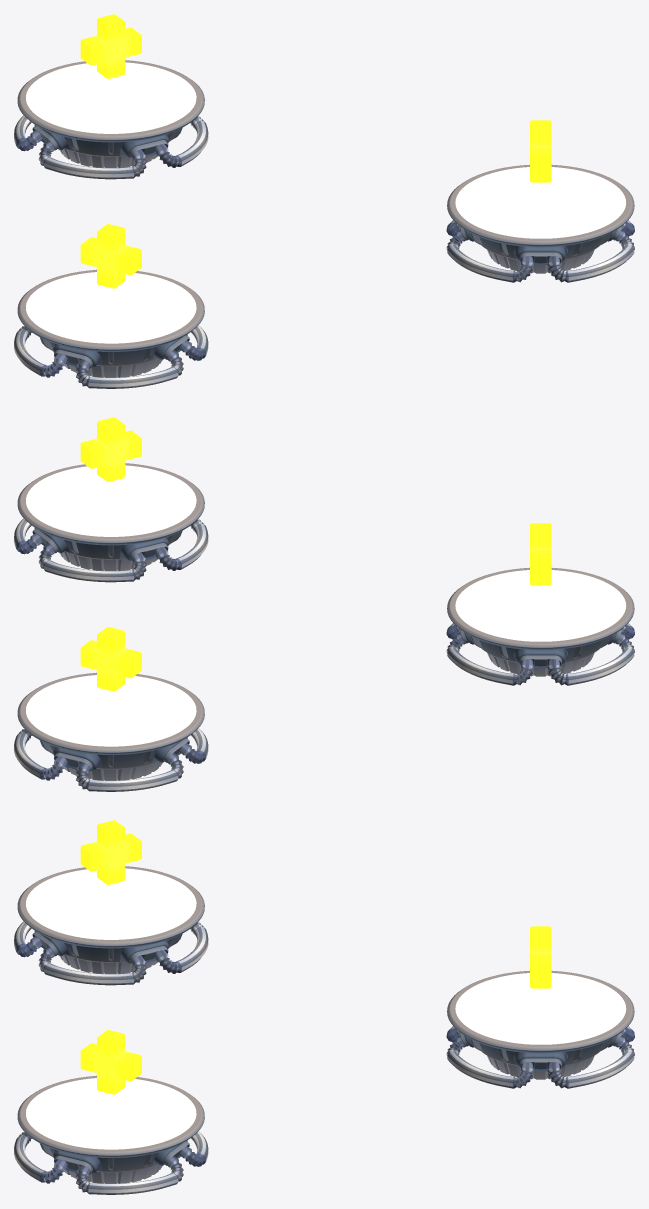
Rendered from BTLMN_LemonPlatfroems_A.glb.
3 renders of one model, top to bottom at view 1: azimuth 30°, elevation 25°; view 2: azimuth 150°, elevation 25°; view 3: azimuth 270°, elevation 25°, orthographic.
Parts seen in each view (by area): view 1: Platform_1, Platform_3, Platform_2, Plus_3_Stroke, Plus_1_Stroke, Plus_2_Stroke; view 2: Platform_3, Platform_2, Platform_1, Plus_2_Stroke, Plus_3_Stroke, Plus_1_Stroke; view 3: Platform_2, Platform_1, Platform_3, Plus_1_Stroke, Plus_2_Stroke, Plus_3_Stroke.
Boxes of the visible parts, x1,y1,x2,y2 form: Platform_1: (14,269,208,388); Platform_3: (14,60,208,179); Platform_2: (446,164,634,282); Plus_3_Stroke: (80,14,141,78); Plus_1_Stroke: (80,224,141,288); Plus_2_Stroke: (530,120,551,182); Platform_3: (14,672,208,791); Platform_2: (14,463,208,582); Platform_1: (446,567,634,685); Plus_2_Stroke: (80,417,141,481); Plus_3_Stroke: (80,627,141,691); Plus_1_Stroke: (530,523,551,585); Platform_2: (14,1075,208,1194); Platform_1: (14,866,208,985); Platform_3: (446,970,634,1088); Plus_1_Stroke: (80,820,141,884); Plus_2_Stroke: (80,1030,141,1094); Plus_3_Stroke: (530,926,551,988).
Bounding box in the file's own units: 723 × 147 × 650.
4 materials, 4 textured.
